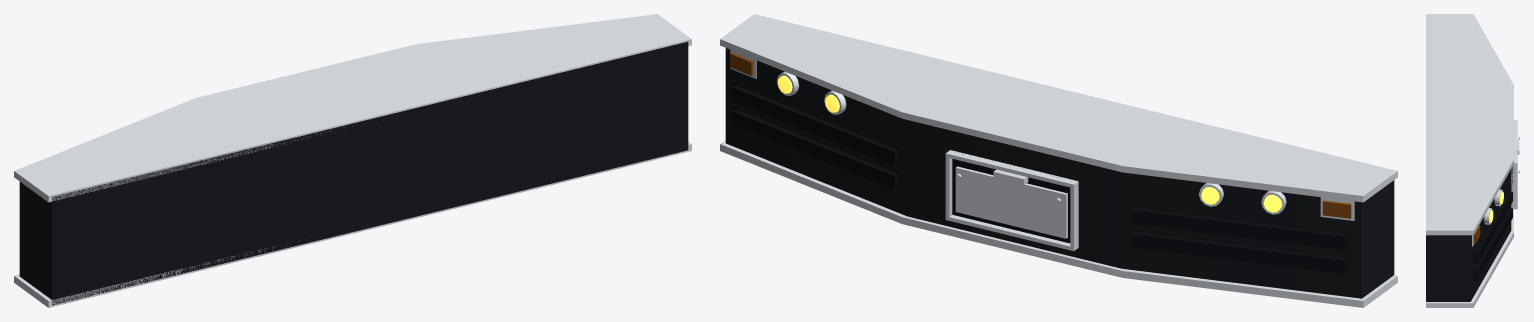
Rendered from fb_fan_plate.glb.
3 views of the same model, side by side, from view 1: azimuth 30°, elevation 25°; view 2: azimuth 150°, elevation 25°; view 3: azimuth 270°, elevation 25° (orthographic). The views are drawn at different scales.
Parts seen in each view (by area): view 1: fb_fan_plate_TOP_chrome, fb_fan_plate_MID_deco_body, fb_fan_plate_TOP_deco_body, fb_fan_plate_BOT_deco_body, fb_fan_plate_BOT_chrome; view 2: fb_fan_plate_TOP_chrome, fb_fan_plate_MID_deco_body, fb_fan_plate_TOP_deco_body, fb_fan_plate_MID_deco_trim, fb_fan_plate_BOT_deco_body, fb_fan_plate_BOT_chrome, fb_fan_plate_CEN_deco_plate, fb_fan_plate_CEN_chrome, fb_fan_plate_CEN_deco_trim, fb_fan_plate_TOP_lamp_amber, fb_fan_plate_TOP_deco_signal; view 3: fb_fan_plate_TOP_chrome, fb_fan_plate_MID_deco_body, fb_fan_plate_MID_deco_trim, fb_fan_plate_TOP_deco_body, fb_fan_plate_BOT_deco_body, fb_fan_plate_BOT_chrome, fb_fan_plate_CEN_chrome, fb_fan_plate_TOP_lamp_amber, fb_fan_plate_TOP_deco_signal.
Part boxes in pixels (left/top/right/bottom): fb_fan_plate_TOP_chrome: left=14, top=14, right=691, bottom=202; fb_fan_plate_MID_deco_body: left=19, top=75, right=688, bottom=282; fb_fan_plate_TOP_deco_body: left=19, top=41, right=688, bottom=229; fb_fan_plate_BOT_deco_body: left=19, top=128, right=688, bottom=305; fb_fan_plate_BOT_chrome: left=14, top=142, right=691, bottom=307; fb_fan_plate_TOP_chrome: left=720, top=14, right=1397, bottom=220; fb_fan_plate_MID_deco_body: left=725, top=73, right=1394, bottom=281; fb_fan_plate_TOP_deco_body: left=725, top=48, right=1394, bottom=228; fb_fan_plate_MID_deco_trim: left=732, top=85, right=1347, bottom=274; fb_fan_plate_BOT_deco_body: left=725, top=126, right=1394, bottom=298; fb_fan_plate_BOT_chrome: left=720, top=140, right=1397, bottom=307; fb_fan_plate_CEN_deco_plate: left=955, top=166, right=1067, bottom=238; fb_fan_plate_CEN_chrome: left=945, top=150, right=1078, bottom=251; fb_fan_plate_CEN_deco_trim: left=952, top=154, right=1070, bottom=243; fb_fan_plate_TOP_lamp_amber: left=777, top=75, right=1282, bottom=212; fb_fan_plate_TOP_deco_signal: left=730, top=53, right=1351, bottom=218; fb_fan_plate_TOP_chrome: left=1426, top=14, right=1513, bottom=246; fb_fan_plate_MID_deco_body: left=1426, top=182, right=1511, bottom=290; fb_fan_plate_MID_deco_trim: left=1473, top=191, right=1512, bottom=280; fb_fan_plate_TOP_deco_body: left=1426, top=169, right=1511, bottom=253; fb_fan_plate_BOT_deco_body: left=1426, top=221, right=1511, bottom=301; fb_fan_plate_BOT_chrome: left=1426, top=209, right=1513, bottom=307; fb_fan_plate_CEN_chrome: left=1511, top=120, right=1519, bottom=209; fb_fan_plate_TOP_lamp_amber: left=1489, top=191, right=1503, bottom=222; fb_fan_plate_TOP_deco_signal: left=1473, top=226, right=1480, bottom=243.
Size of the model in its own units: 2.53 by 0.42 by 0.463.
